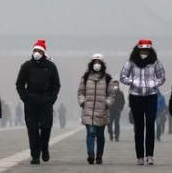person: (119, 38, 167, 165), (15, 38, 58, 165), (77, 52, 116, 165), (105, 80, 125, 141), (56, 102, 70, 130), (13, 101, 25, 127)
